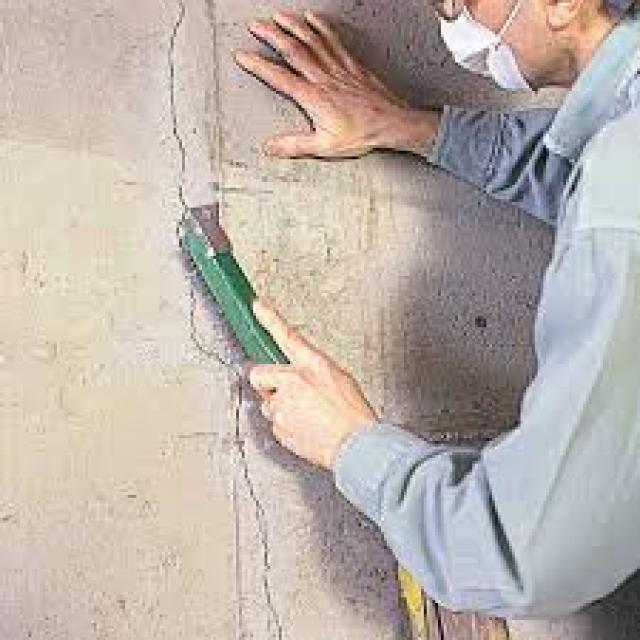Crack: (180, 256, 284, 637), (165, 0, 191, 205)
